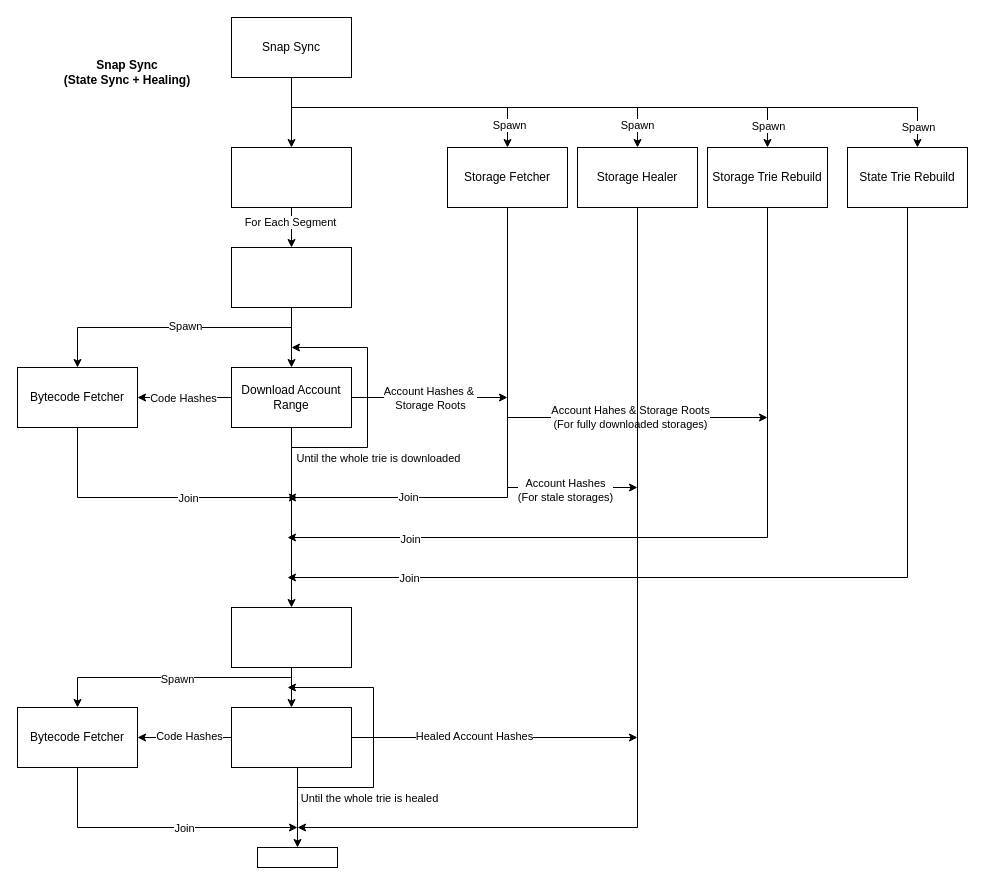
Image size: 985x885. Some labels were removed from this diagram. Each missing label, with the centre of its shape:
"Fetch State Nodes" goes at point (291, 737).
"State Healing" goes at point (291, 637).
"State Sync" goes at point (291, 177).
"State Sync Segment" goes at point (291, 277).
